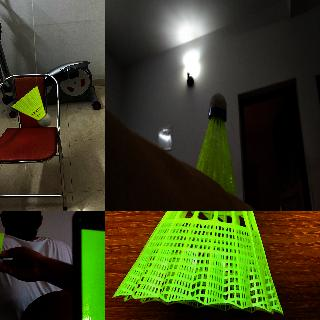shuttlecock: (113, 211, 284, 317), (196, 92, 237, 194), (11, 86, 51, 126), (0, 231, 5, 263)
